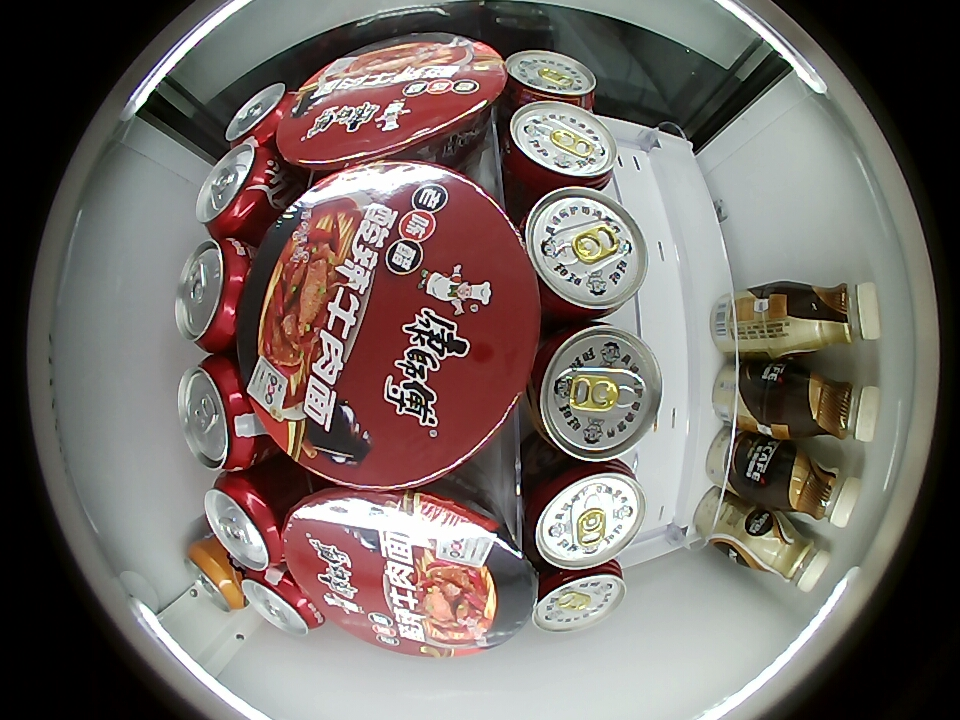fenda: (186, 541, 245, 612)
kafei: (780, 369, 881, 443), (785, 281, 883, 355), (771, 448, 861, 527), (748, 513, 832, 593)
kele: (178, 355, 259, 472), (175, 238, 251, 352), (195, 142, 279, 237), (204, 474, 286, 570), (242, 566, 322, 636), (225, 82, 293, 148)
suanlaniurou: (245, 163, 538, 488), (282, 485, 534, 658), (276, 35, 507, 172)
wangzainiunai: (525, 321, 663, 462), (520, 187, 648, 321), (521, 453, 646, 569), (500, 101, 618, 199), (531, 557, 626, 633), (503, 49, 597, 115)
